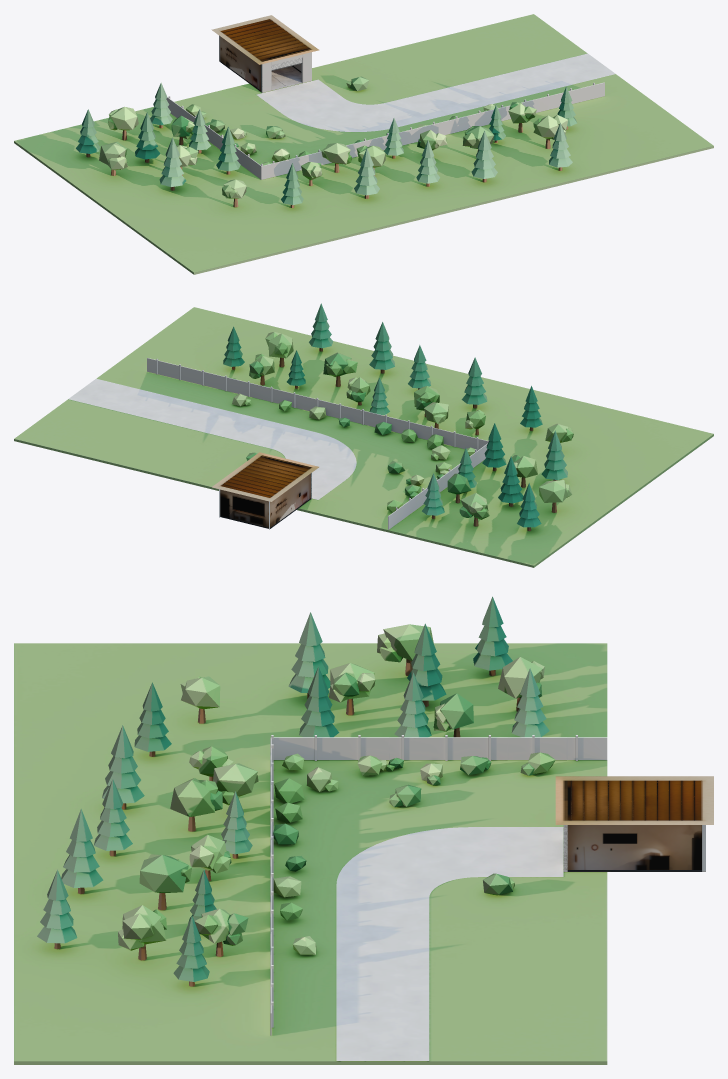
The model's file is static.glb.
3 renders of one model, top to bottom at view 1: azimuth 30°, elevation 25°; view 2: azimuth 150°, elevation 25°; view 3: azimuth 270°, elevation 25°, orthographic. The views are drawn at different scales.
Visible parts, largest first — view 1: baked_exterior, baked_plants, baked_fence, baked_ceiling, baked_walls, baked_floor; view 2: baked_exterior, baked_plants, baked_fence, baked_ceiling, baked_walls; view 3: baked_exterior, baked_plants, baked_fence, baked_ceiling, baked_walls.
Boxes of the visible parts, bbox=[...] form: baked_exterior: bbox=[14, 14, 713, 274]; baked_plants: bbox=[76, 76, 576, 208]; baked_fence: bbox=[166, 82, 604, 179]; baked_ceiling: bbox=[211, 15, 319, 64]; baked_walls: bbox=[219, 35, 311, 92]; baked_floor: bbox=[271, 66, 301, 90]; baked_exterior: bbox=[14, 307, 713, 567]; baked_plants: bbox=[223, 303, 573, 530]; baked_fence: bbox=[147, 358, 489, 529]; baked_ceiling: bbox=[212, 452, 318, 501]; baked_walls: bbox=[219, 473, 311, 529]; baked_exterior: bbox=[14, 643, 607, 1064]; baked_plants: bbox=[37, 596, 555, 986]; baked_fence: bbox=[270, 735, 607, 1035]; baked_ceiling: bbox=[555, 776, 713, 824]; baked_walls: bbox=[563, 825, 705, 871].
Size of the model in its own units: 50 by 5.05 by 35.4.
Materials: 8 (8 with a texture image).
